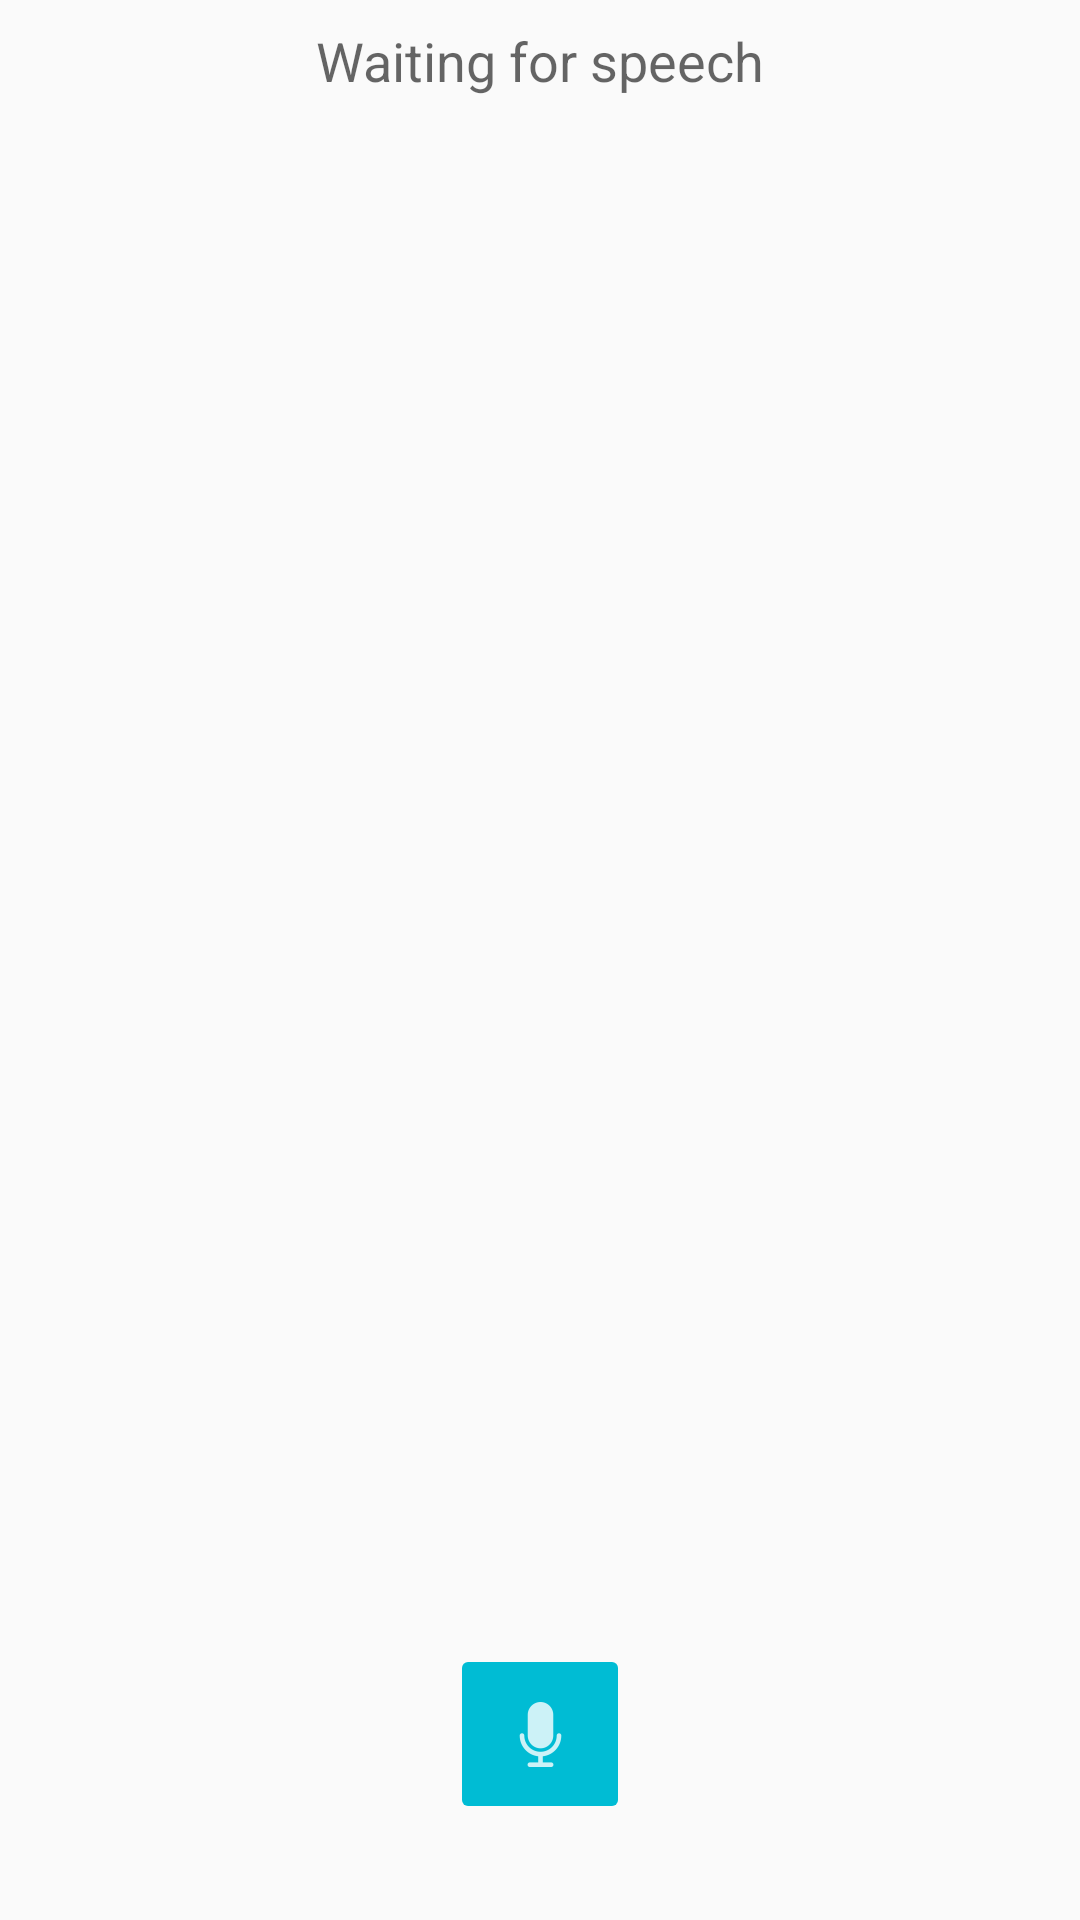

Icon click points for this 1080px x 1920px phone screenshot, format (x=x, y=y):
microphone: (x=540, y=1734)
